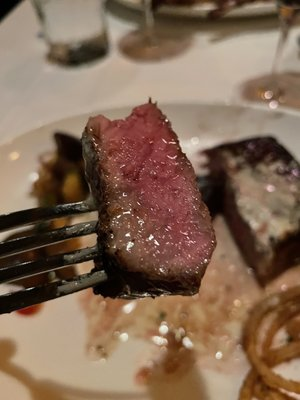burger: (0, 199, 107, 316)
